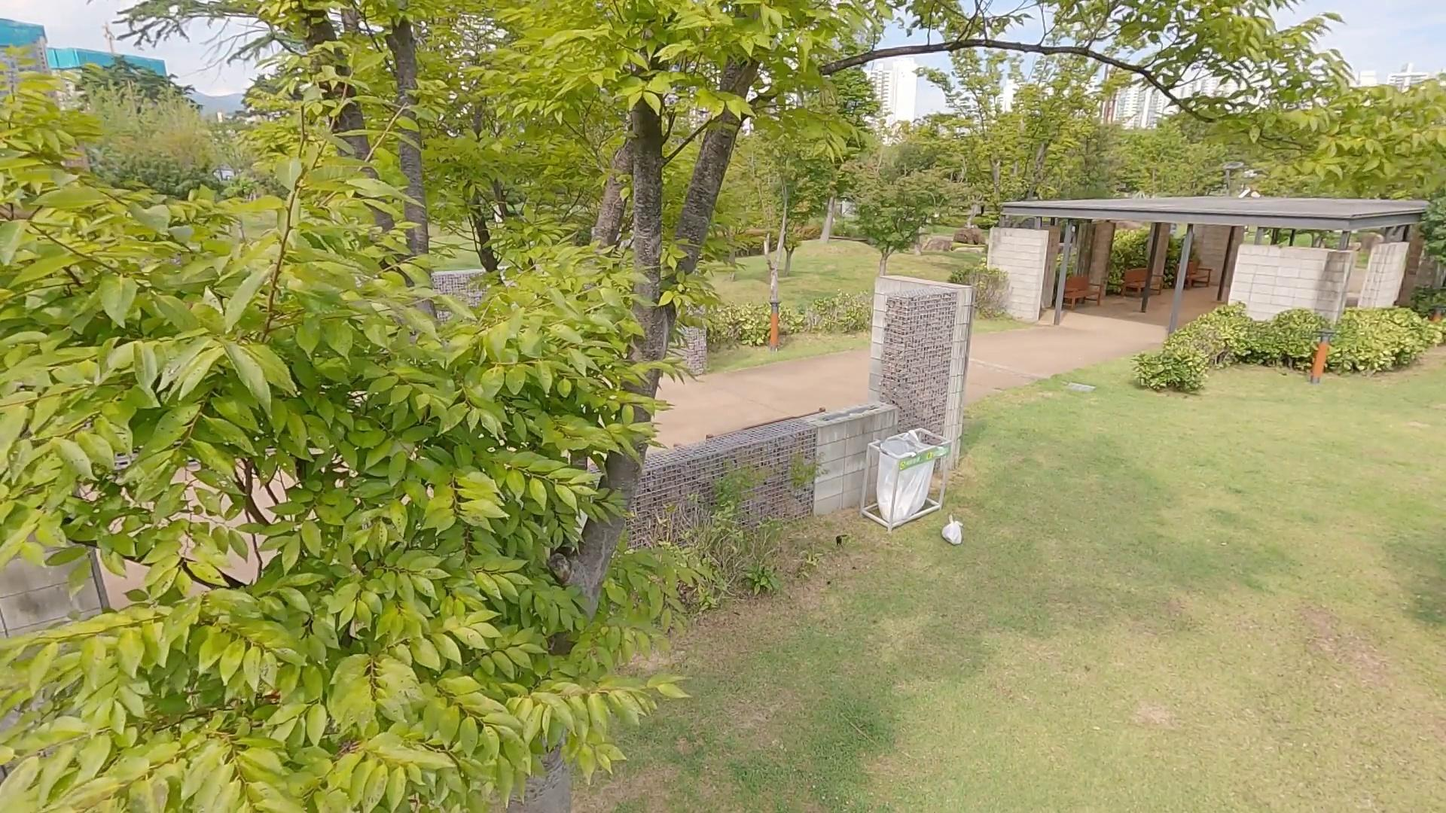trash: (939, 514, 974, 548)
